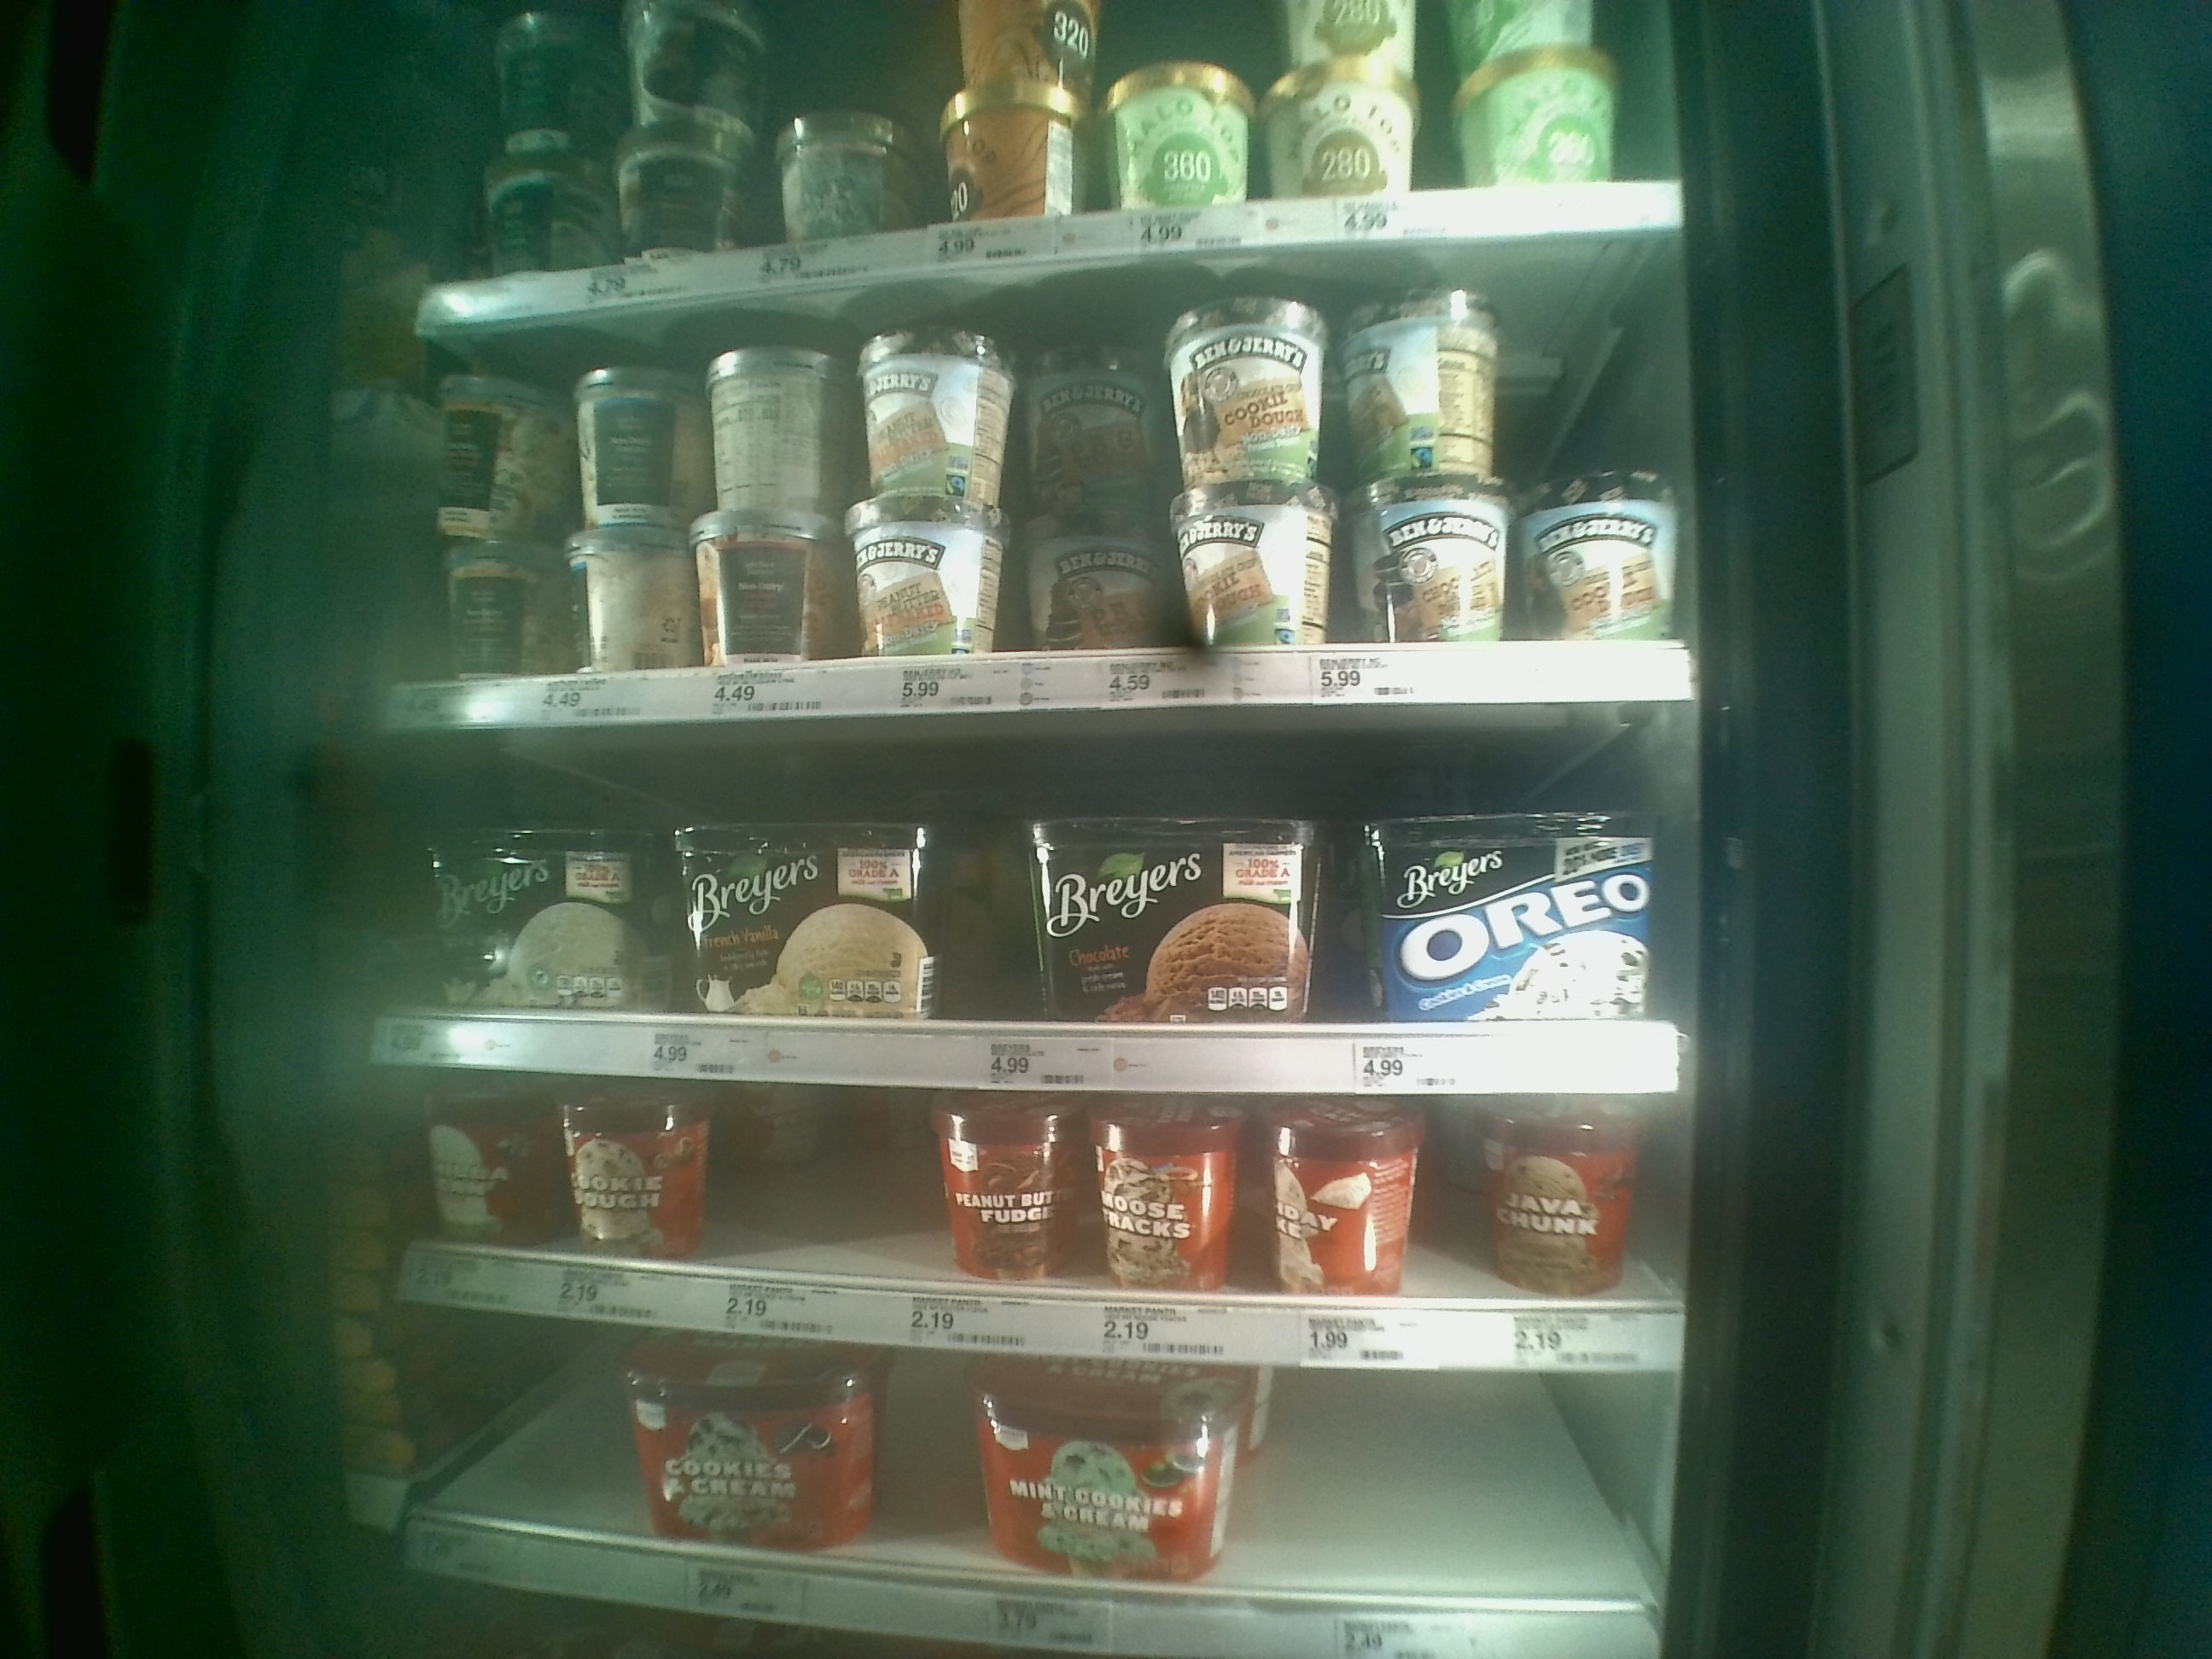shelf: (404, 260, 1707, 713), (394, 716, 1686, 1082), (394, 1305, 1674, 1647), (381, 1065, 1684, 1345)
